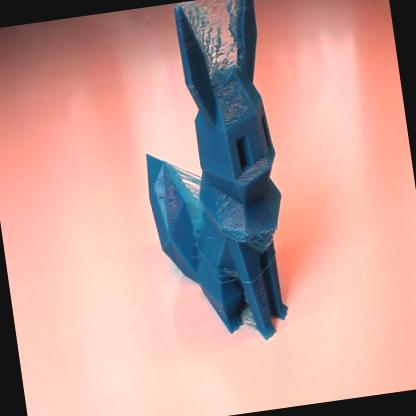fail: (185, 1, 253, 83)
